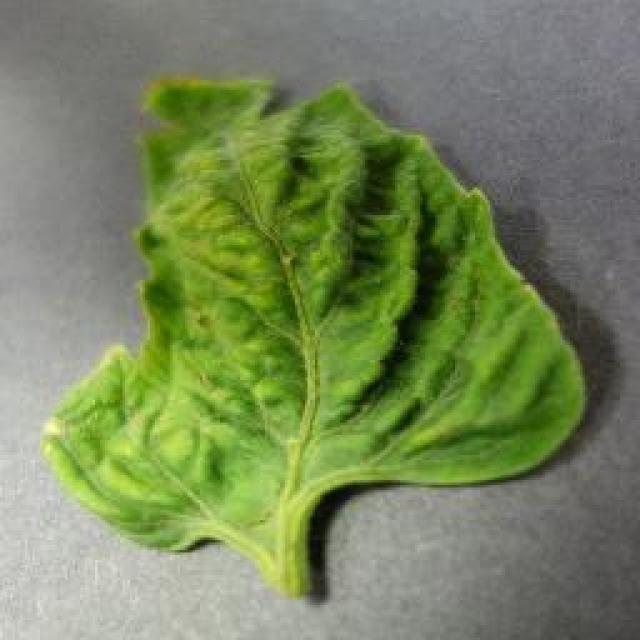Tom_Yellow_Leaf_Curl_Virus: (86, 91, 402, 520)
